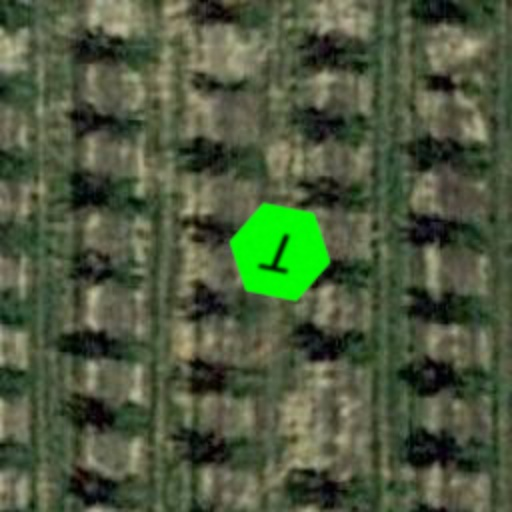hexagon: (218, 190, 342, 314)
